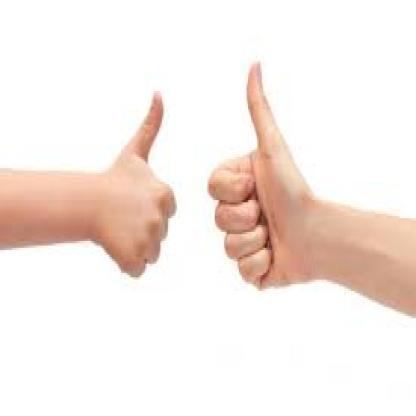thumb_up: (204, 57, 314, 294), (95, 86, 180, 282)
